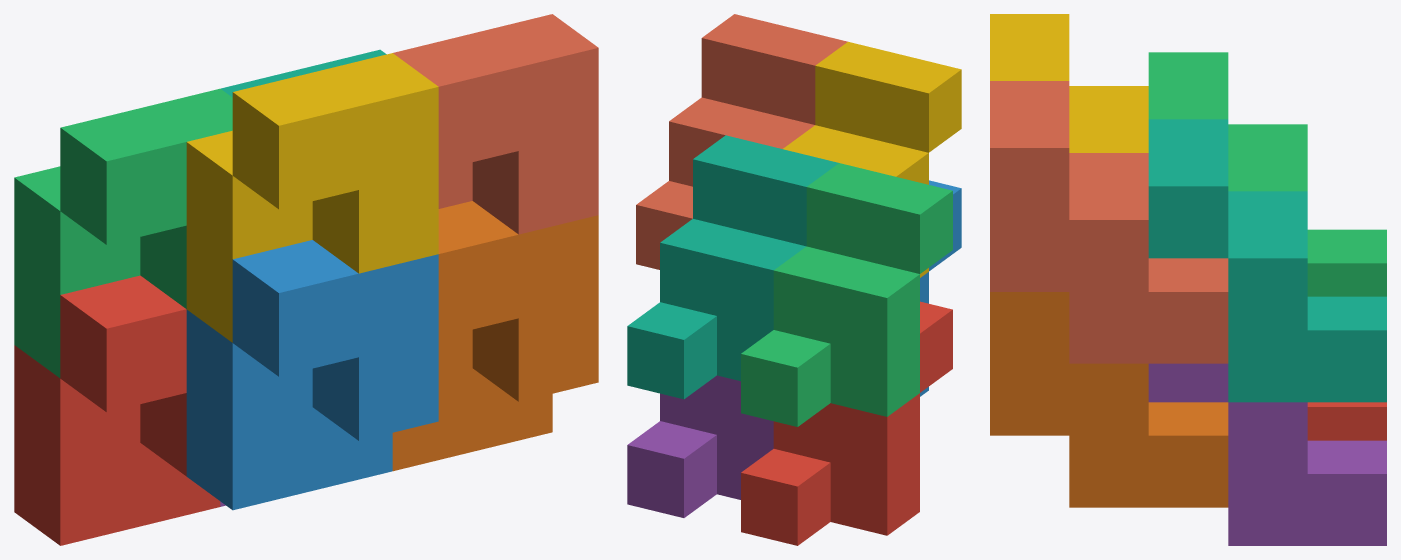
File: tiling.obj
3 renders of one model, left to right at view 1: azimuth 30°, elevation 25°; view 2: azimuth 150°, elevation 25°; view 3: azimuth 270°, elevation 25°, orthographic. The views are drawn at different scales.
Parts seen in each view (by area): view 1: copy_1_domain_2, copy_1_domain_4, copy_1_domain_1, copy_1_domain_6, copy_1_domain_3, copy_1_domain_8, copy_1_domain_7; view 2: copy_1_domain_3, copy_1_domain_7, copy_1_domain_1, copy_1_domain_8, copy_1_domain_4, copy_1_domain_5, copy_1_domain_2; view 3: copy_1_domain_8, copy_1_domain_7, copy_1_domain_6, copy_1_domain_5, copy_1_domain_3, copy_1_domain_4, copy_1_domain_1.
Part boxes in pixels (x1,y1,x2,y2): copy_1_domain_2: (186, 240, 438, 510); copy_1_domain_4: (186, 53, 438, 342); copy_1_domain_1: (14, 275, 220, 545); copy_1_domain_6: (392, 201, 598, 471); copy_1_domain_3: (14, 88, 232, 377); copy_1_domain_8: (393, 14, 598, 234); copy_1_domain_7: (221, 49, 386, 97); copy_1_domain_3: (741, 163, 952, 426); copy_1_domain_7: (627, 135, 838, 399); copy_1_domain_1: (741, 301, 952, 545); copy_1_domain_8: (636, 14, 847, 269); copy_1_domain_4: (783, 41, 961, 277); copy_1_domain_5: (627, 375, 773, 517); copy_1_domain_2: (920, 180, 961, 396); copy_1_domain_8: (990, 81, 1228, 363); copy_1_domain_7: (1148, 119, 1386, 402); copy_1_domain_6: (990, 292, 1228, 507); copy_1_domain_5: (1148, 363, 1386, 545); copy_1_domain_3: (1148, 52, 1386, 296); copy_1_domain_4: (990, 14, 1148, 152); copy_1_domain_1: (1307, 402, 1386, 440).
Bounding box in the file's own units: 5 × 6 × 5.
